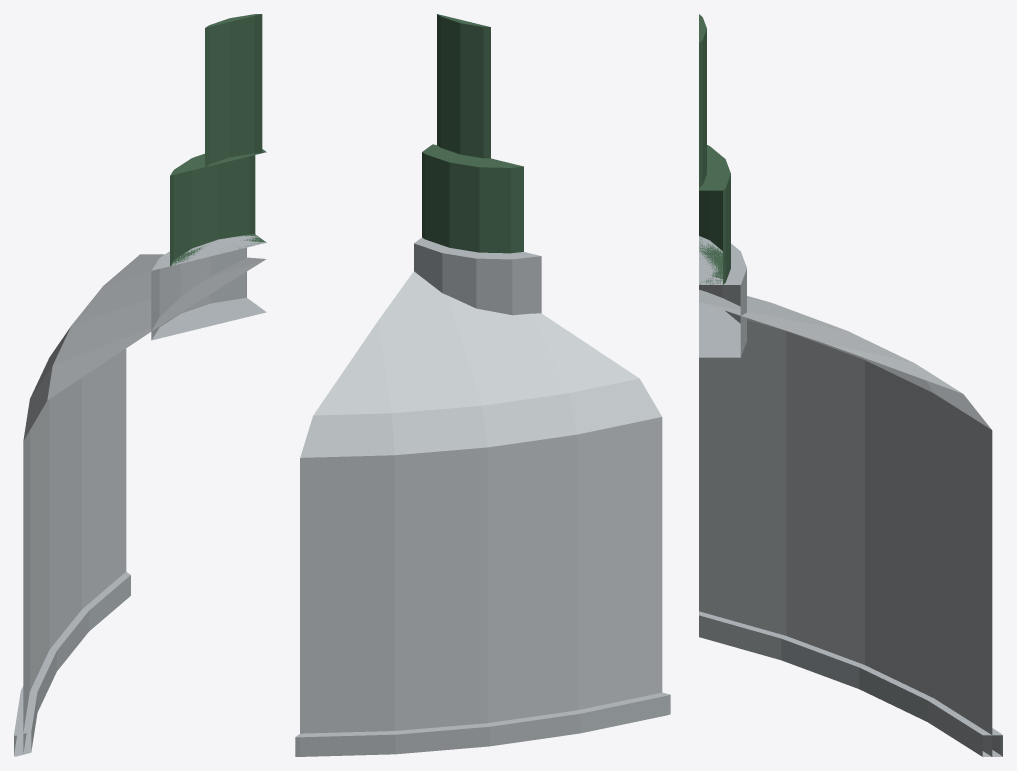
Rendered from cell_27.obj.
3 views of the same model, side by side, from view 1: azimuth 30°, elevation 25°; view 2: azimuth 150°, elevation 25°; view 3: azimuth 270°, elevation 25° (orthographic). The views are drawn at different scales.
Size of the model in its own units: 0.3794 by 0.98 by 0.3794.
